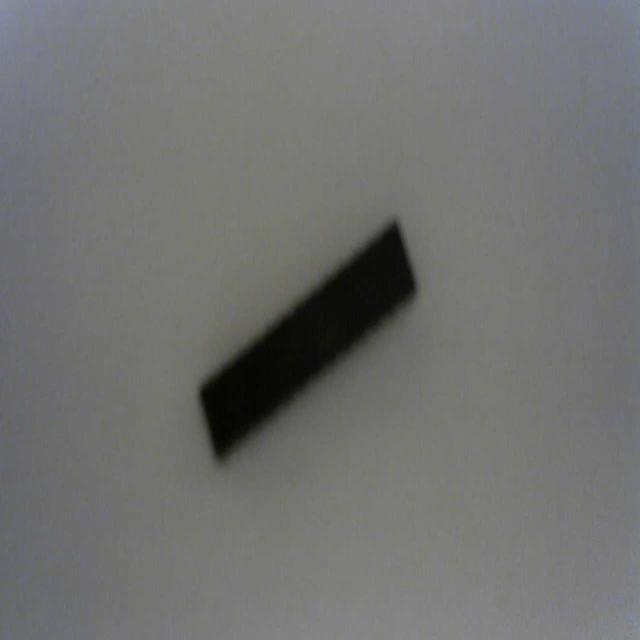atmega: (196, 212, 420, 466)
